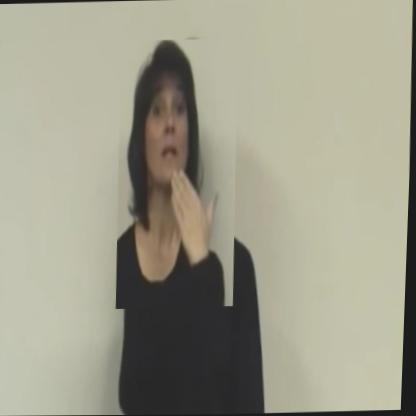ThankYou: (113, 38, 242, 309)
